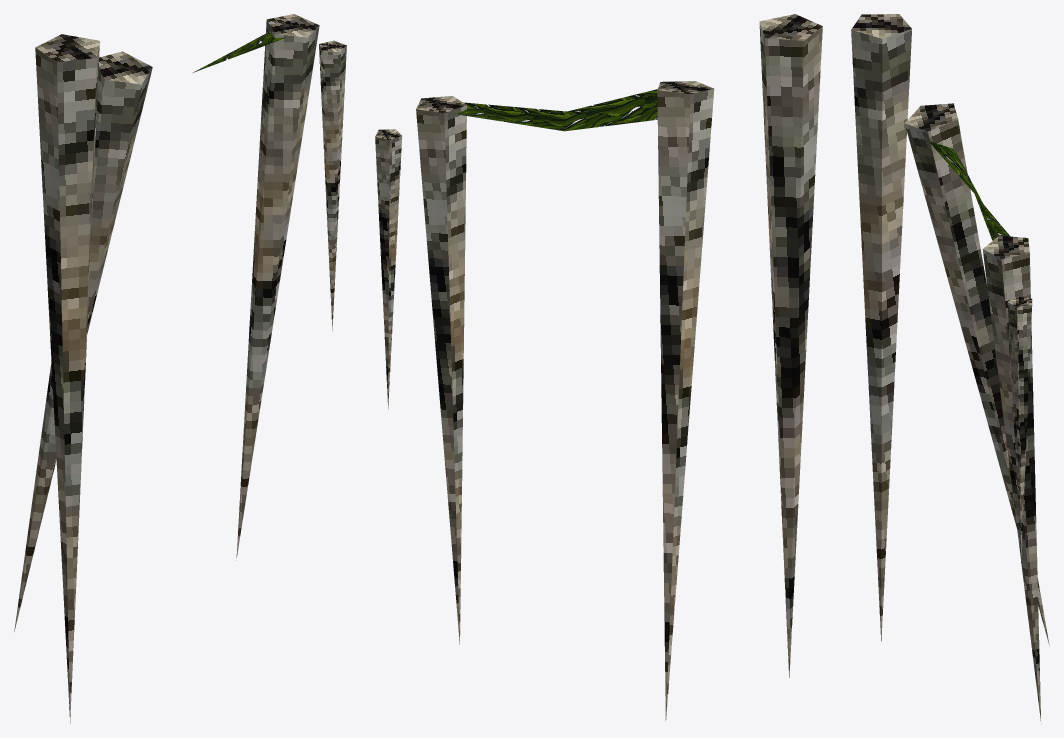
The model's file is beach-_Stalagtites1 (1).fbx.
3 renders of one model, left to right at view 1: azimuth 30°, elevation 25°; view 2: azimuth 150°, elevation 25°; view 3: azimuth 270°, elevation 25°, orthographic. The views are drawn at different scales.
Visible parts, largest first — view 1: stalagtite.009, stalagtite.011, stalagtite.010, stalagtite.007, seaweed2; view 2: stalagtite.009, stalagtite.010, stalagtite.011, seaweed2, stalagtite.007; view 3: stalagtite.009, stalagtite.010, stalagtite.011, stalagtite.007, seaweed2.
Part boxes in pixels (<box>): stalagtite.009: <box>35,34,99,723</box>; stalagtite.011: <box>236,14,319,560</box>; stalagtite.010: <box>14,51,152,631</box>; stalagtite.007: <box>319,40,346,330</box>; seaweed2: <box>193,31,285,72</box>; stalagtite.009: <box>759,14,822,677</box>; stalagtite.010: <box>657,81,714,720</box>; stalagtite.011: <box>416,96,466,644</box>; seaweed2: <box>455,89,657,131</box>; stalagtite.007: <box>375,129,402,408</box>; stalagtite.009: <box>851,14,911,641</box>; stalagtite.010: <box>904,103,1049,645</box>; stalagtite.011: <box>982,235,1041,723</box>; stalagtite.007: <box>1007,296,1032,562</box>; seaweed2: <box>923,135,1010,240</box>.
Bounding box in the file's own units: 1.75 × 0.8763 × 3.01.
Materials: 2 (2 with a texture image).
